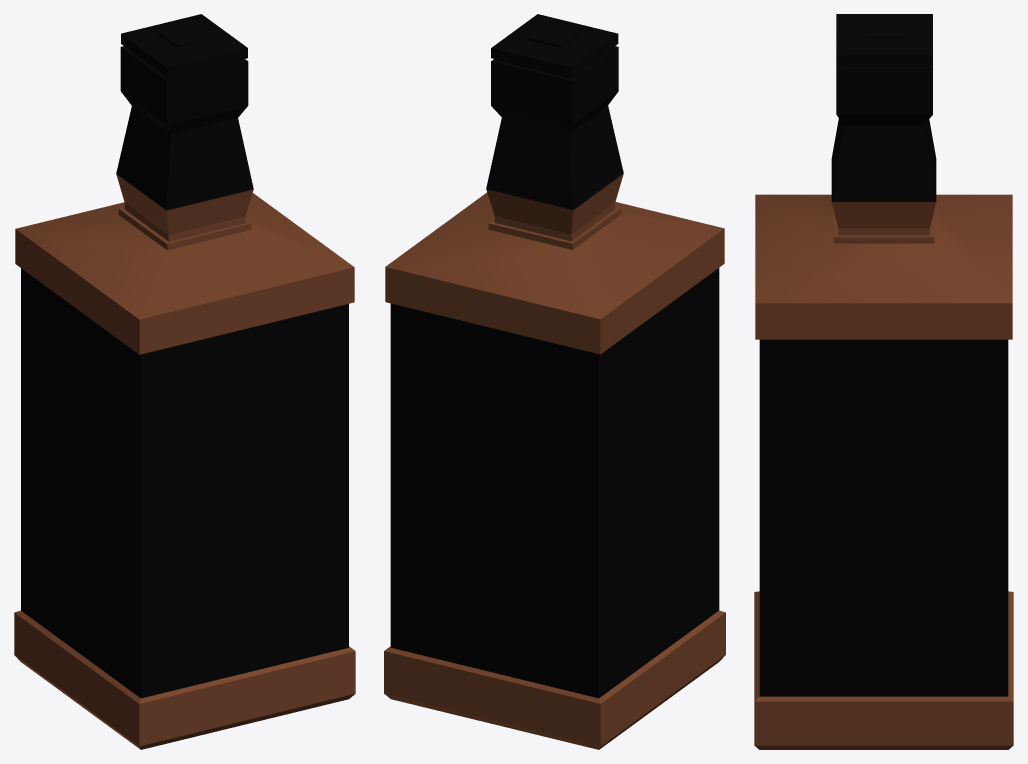
Rendered from Bottle 1.fbx.
3 renders of one model, left to right at view 1: azimuth 30°, elevation 25°; view 2: azimuth 150°, elevation 25°; view 3: azimuth 270°, elevation 25°, orthographic. The views are drawn at different scales.
Visible parts, largest first — view 1: 2.001; view 2: 2.001; view 3: 2.001.
Part boxes in pixels (x1=…): 2.001: x1=14, y1=14, x2=355, y2=749; 2.001: x1=384, y1=14, x2=725, y2=749; 2.001: x1=754, y1=14, x2=1013, y2=749.
Size of the model in its own units: 38.21 by 109 by 38.21.
